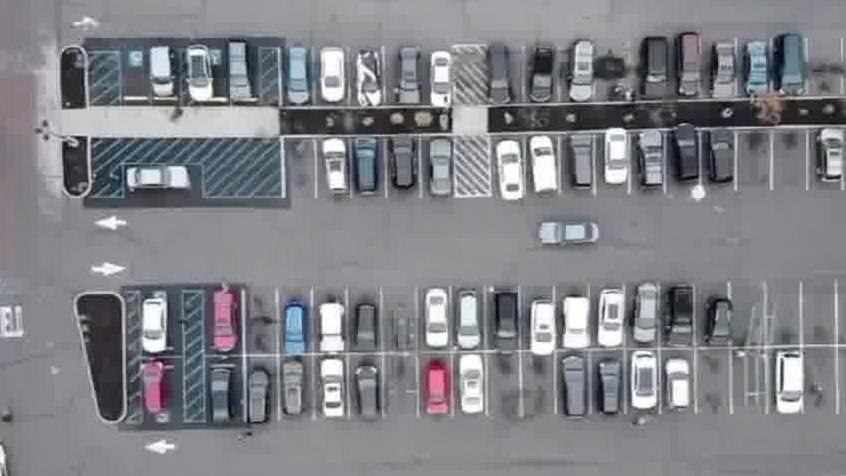car: (448, 285, 490, 347), (452, 353, 490, 420), (769, 351, 804, 421), (775, 33, 811, 98), (635, 35, 670, 100), (497, 140, 532, 205), (124, 161, 195, 193), (676, 31, 707, 100), (532, 217, 603, 247), (702, 129, 738, 188), (313, 358, 346, 422), (559, 358, 591, 424), (627, 353, 661, 415), (321, 136, 354, 199), (669, 126, 702, 189), (593, 359, 625, 422), (491, 291, 522, 356), (483, 44, 514, 108), (531, 136, 564, 196), (528, 299, 562, 357), (665, 287, 696, 350), (661, 350, 692, 413), (567, 136, 599, 197), (211, 283, 241, 348), (422, 283, 451, 348), (571, 42, 599, 109), (351, 362, 382, 422), (421, 356, 452, 416), (560, 297, 592, 355), (187, 44, 220, 100), (596, 292, 626, 353), (428, 138, 457, 200), (390, 134, 420, 193), (351, 137, 380, 198), (319, 299, 350, 356), (320, 44, 349, 104), (396, 49, 425, 109), (816, 133, 846, 191), (245, 363, 273, 425), (147, 44, 178, 100), (640, 132, 669, 191), (139, 358, 168, 417), (228, 42, 257, 100), (743, 43, 772, 101), (703, 290, 733, 346), (208, 360, 235, 422), (143, 290, 171, 349), (289, 44, 316, 105), (529, 43, 555, 106), (428, 53, 455, 113), (632, 285, 657, 349), (354, 48, 382, 105), (281, 357, 308, 416), (605, 128, 631, 189), (281, 300, 310, 353), (712, 44, 737, 105), (356, 303, 380, 356)
